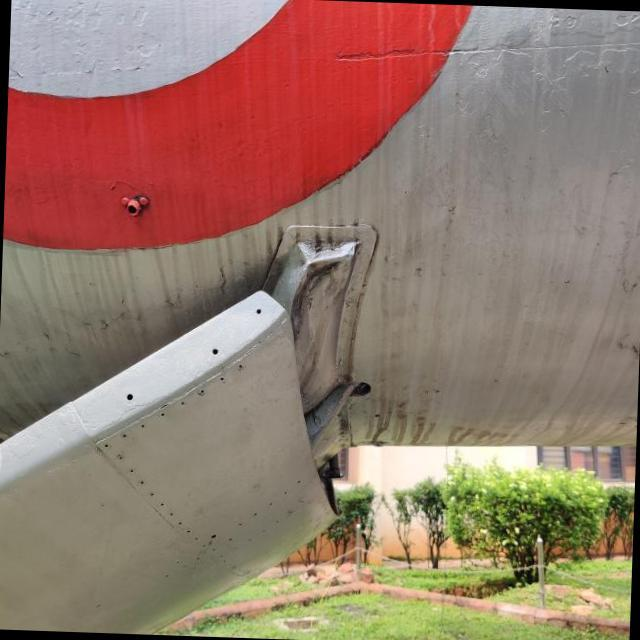Dent: (280, 231, 370, 390)
